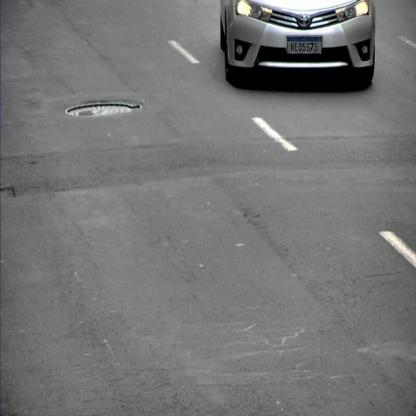PlacaM: (287, 37, 322, 54)
